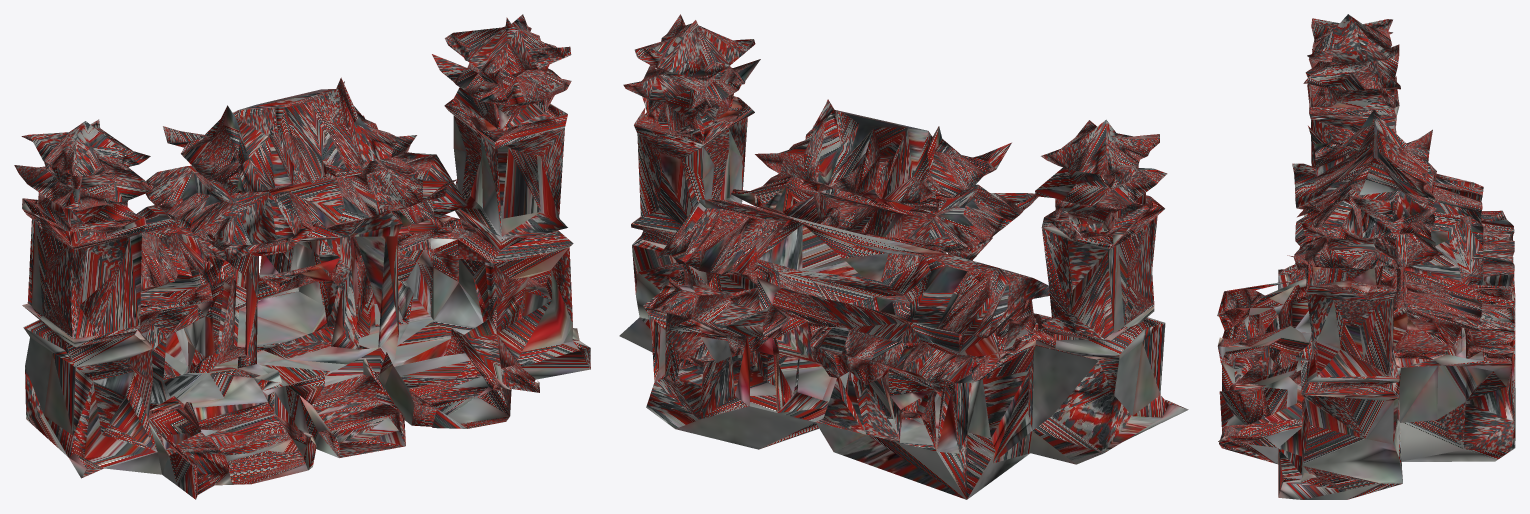
Rendered from sect_gate_grand.far.glb.
3 views of the same model, side by side, from view 1: azimuth 30°, elevation 25°; view 2: azimuth 150°, elevation 25°; view 3: azimuth 270°, elevation 25° (orthographic). The views are drawn at different scales.
Bounding box in the file's own units: 1.88 × 1.16 × 1.09.
1 material, 1 textured.
